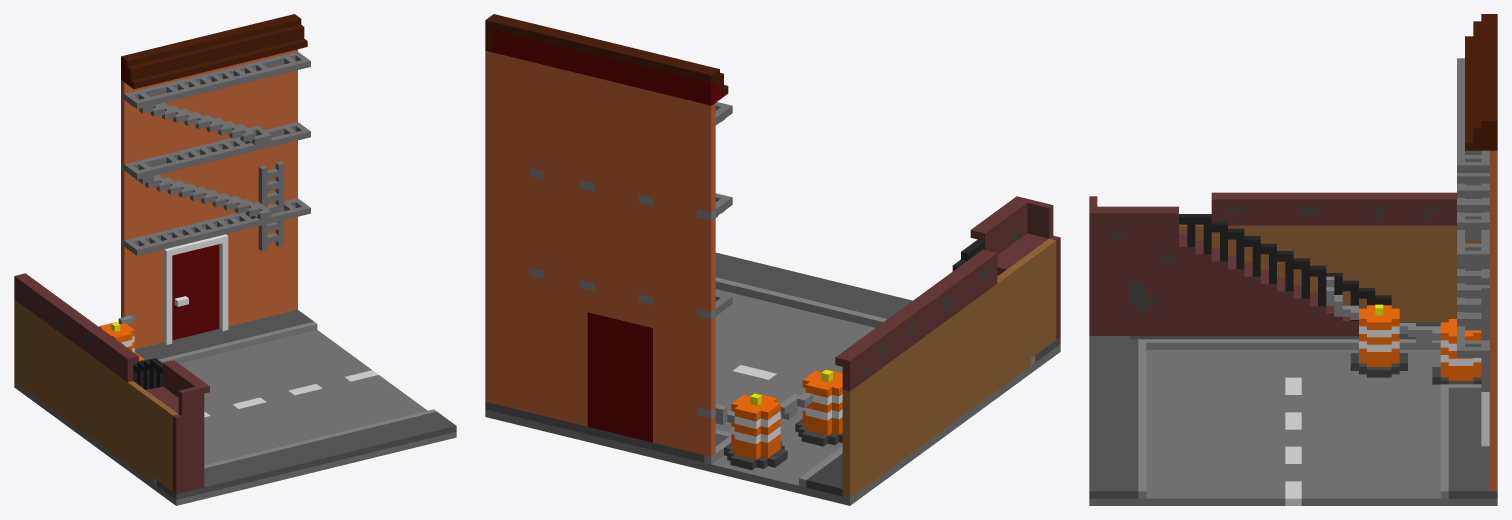
File: --29-A1 - Start.obj
The picture shows the model from 3 angles, left to right: view 1: azimuth 30°, elevation 25°; view 2: azimuth 150°, elevation 25°; view 3: azimuth 270°, elevation 25°; orthographic projection. The views are drawn at different scales.
Parts seen in each view (by area): view 1: A1 - Start; view 2: A1 - Start; view 3: A1 - Start.
Part boxes in pixels (box(x1,y1,x2,y2)): A1 - Start: box(14, 14, 456, 505); A1 - Start: box(485, 14, 1060, 505); A1 - Start: box(1089, 14, 1497, 505).
Size of the model in its own units: 5 by 5.2 by 5.
Materials: 1 (1 with a texture image).
